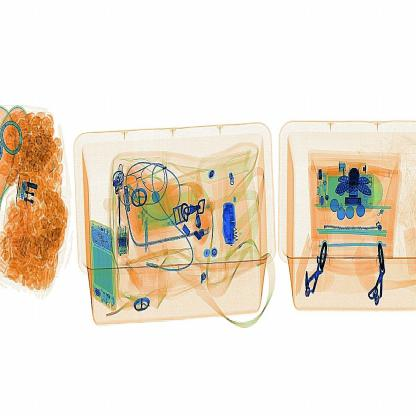scissors: (217, 192, 247, 254)
